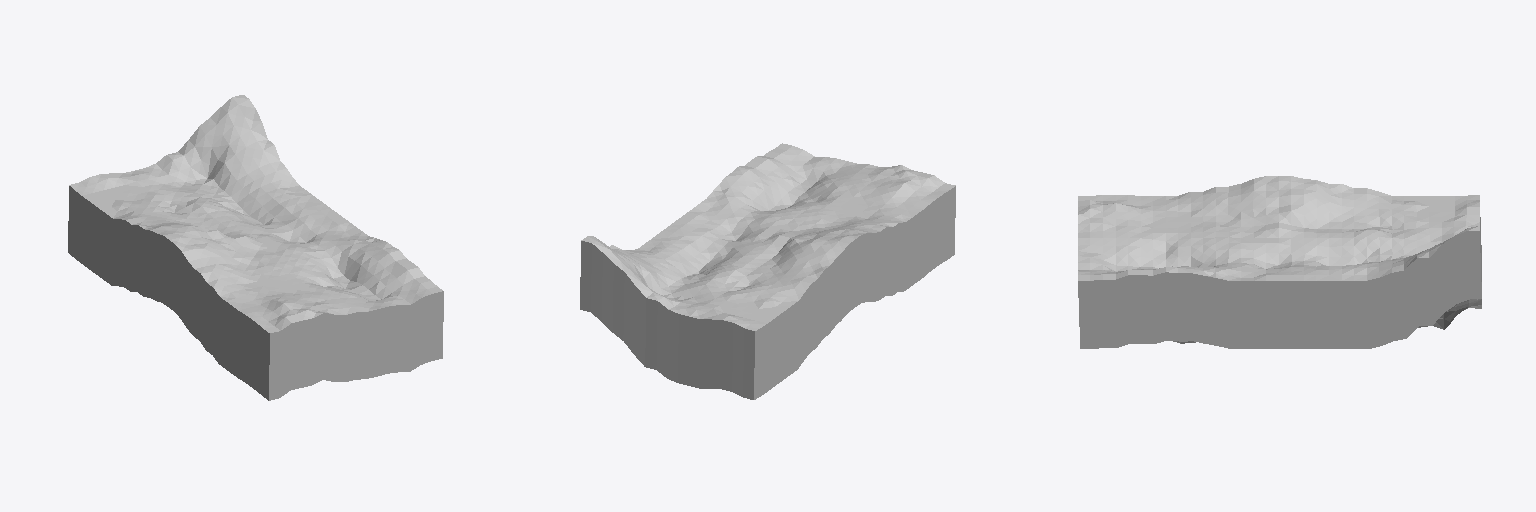
3 renders of one model, left to right at view 1: azimuth 30°, elevation 25°; view 2: azimuth 150°, elevation 25°; view 3: azimuth 270°, elevation 25°, orthographic.
Visible parts, largest first — view 1: Ground.001_Plane.013; view 2: Ground.001_Plane.013; view 3: Ground.001_Plane.013.
Boxes of the visible parts, x1,y1,x2,y2 form: Ground.001_Plane.013: [68, 95, 443, 400]; Ground.001_Plane.013: [580, 143, 955, 399]; Ground.001_Plane.013: [1078, 176, 1481, 348].
Size of the model in its own units: 80.07 by 59.16 by 161.